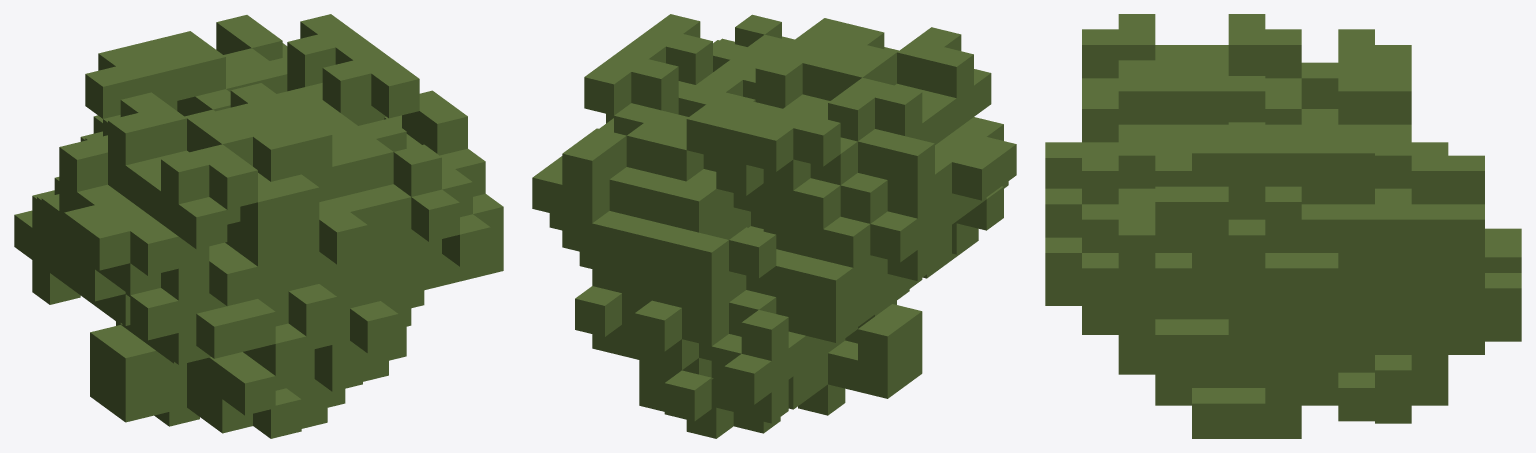
Rendered from good-4.obj.
The picture shows the model from 3 angles, left to right: view 1: azimuth 30°, elevation 25°; view 2: azimuth 150°, elevation 25°; view 3: azimuth 270°, elevation 25°; orthographic projection. The views are drawn at different scales.
Size of the model in its own units: 1.2 by 1 by 1.3.
1 material, 1 textured.
